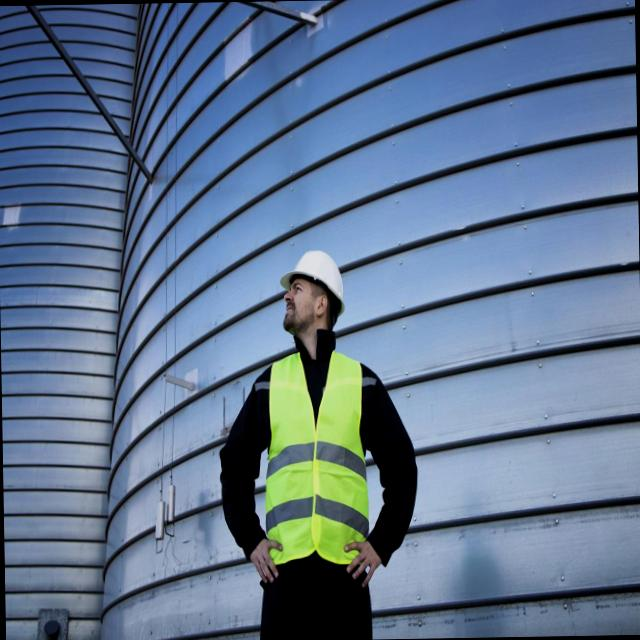helmet: (272, 232, 353, 299)
no-goggles: (282, 282, 316, 304)
vest: (256, 330, 375, 586)
